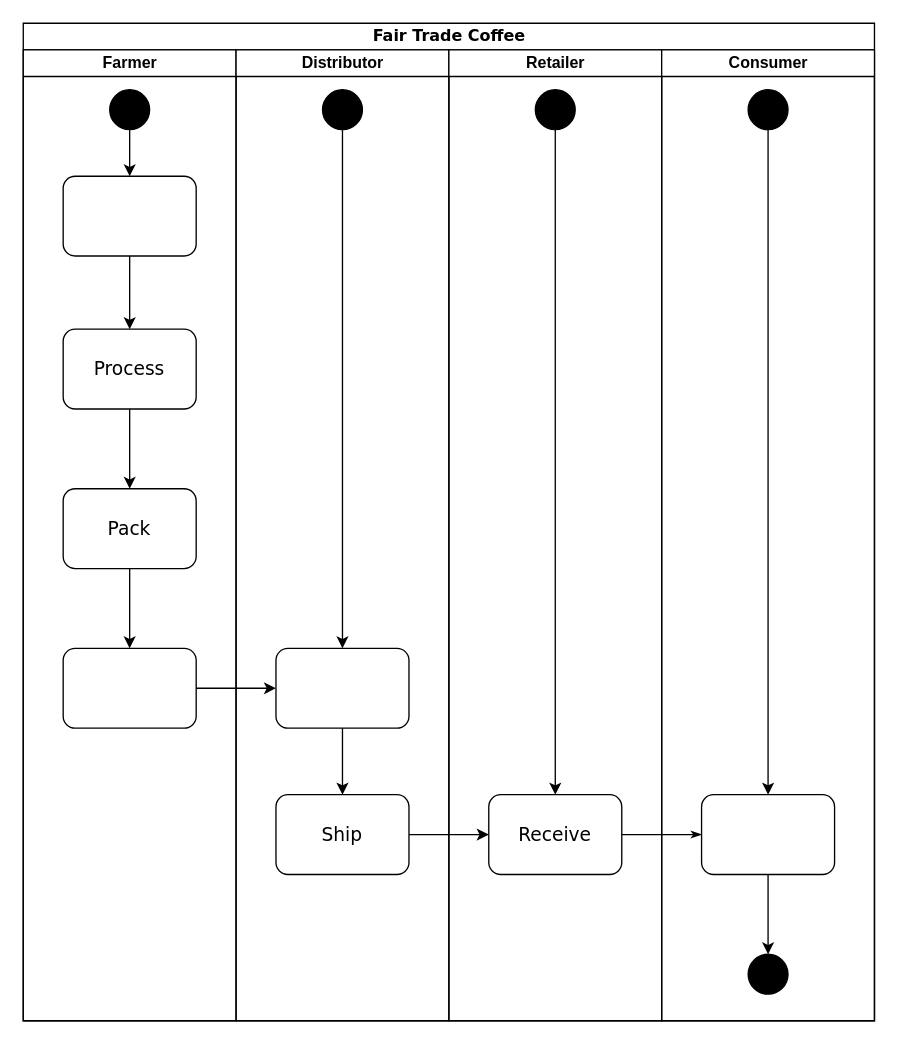
The diagram is 898 pixels wide and 1044 high, and some of its shapes have lost their labels. The shapes that lost their labels are listed below. From the top down, each one's centre as x and y in pixels, then its label:
At (x=129, y=215): "Harvest".
At (x=129, y=687): "Sell".
At (x=342, y=687): "Buy".
At (x=767, y=833): "Purchase".
